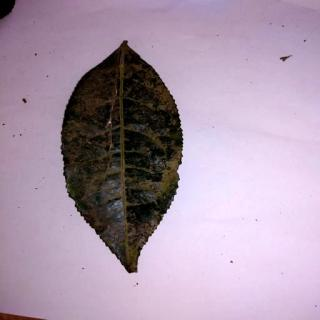Anthracnose: (63, 39, 187, 277)
